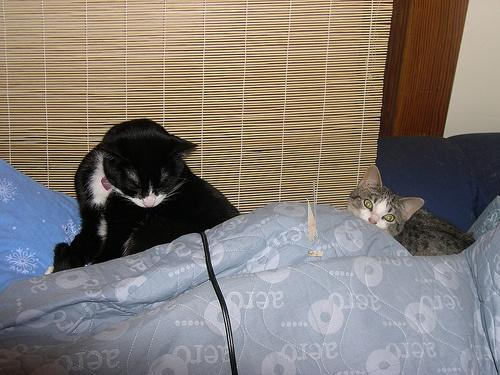tampered: (308, 181, 323, 257)
